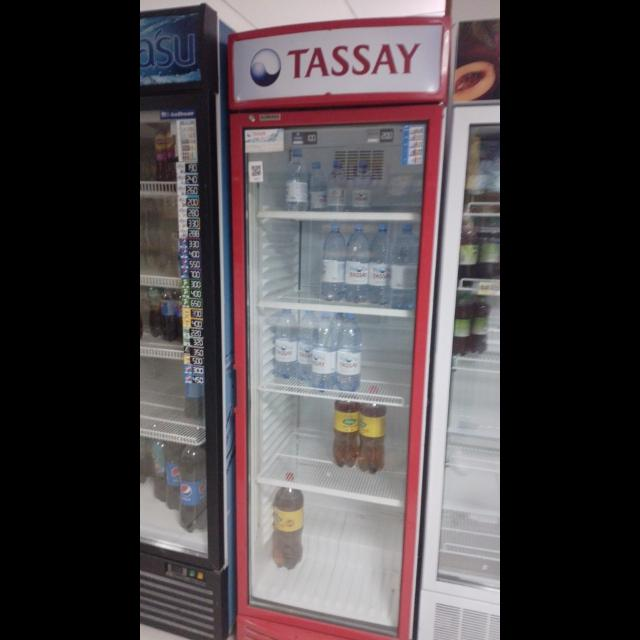Cooling-Display: (226, 15, 450, 639)
